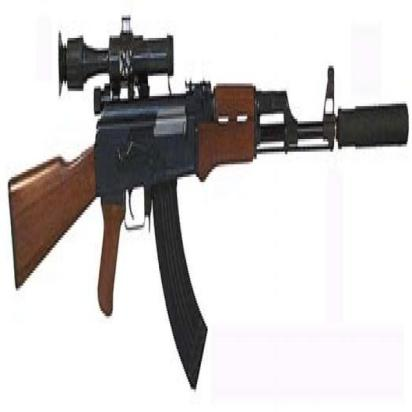Gun: (4, 77, 410, 412)
